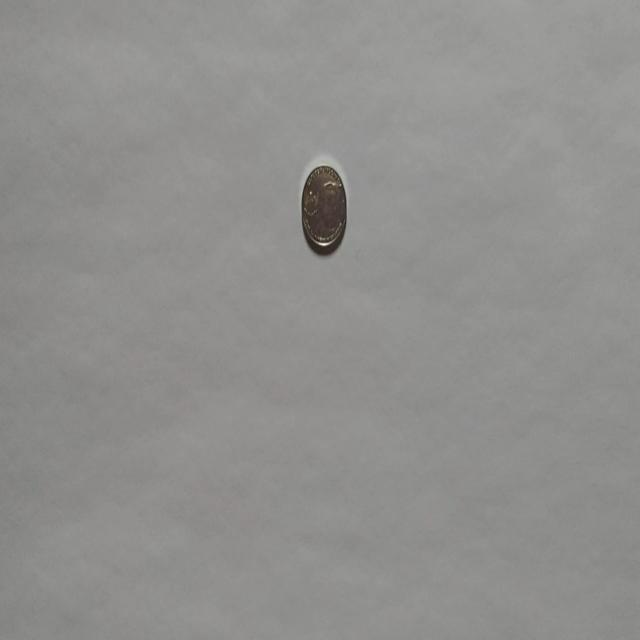seratus rupiah: (300, 162, 348, 250)
